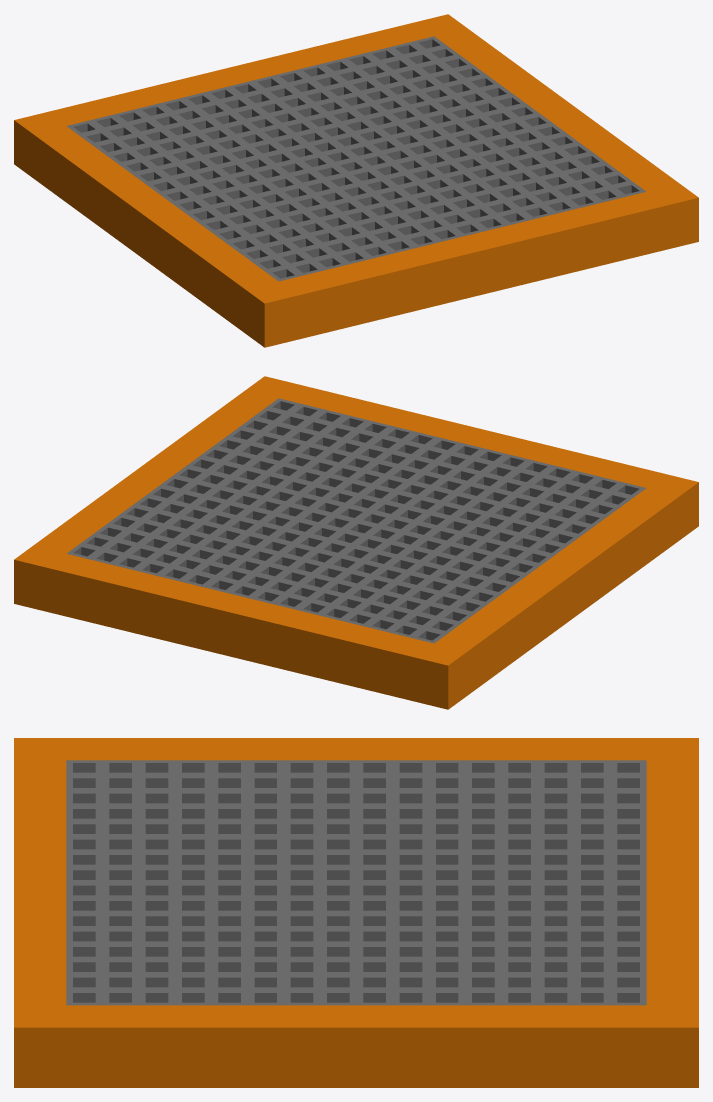
Rendered from P_Plateforme_sol_01.fbx.
3 views of the same model, one above another, from view 1: azimuth 30°, elevation 25°; view 2: azimuth 150°, elevation 25°; view 3: azimuth 270°, elevation 25° (orthographic). The views are drawn at different scales.
Visible parts, largest first — view 1: P_Plateforme_Sol; view 2: P_Plateforme_Sol; view 3: P_Plateforme_Sol.
Boxes of the visible parts, left/top/right/bottom form: P_Plateforme_Sol: left=14, top=14, right=698, bottom=347; P_Plateforme_Sol: left=14, top=376, right=698, bottom=709; P_Plateforme_Sol: left=14, top=738, right=698, bottom=1087.
Bounding box in the file's own units: 200 × 19.43 × 200.
